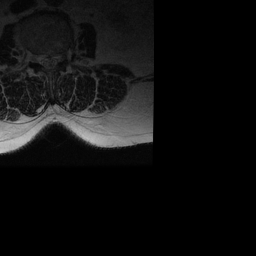CCS_normal: (45, 46, 51, 76)
LFS_normal: (58, 45, 65, 68)
LLS_normal: (51, 45, 58, 73)
RFS_normal: (33, 45, 40, 69)
RLS_normal: (40, 46, 45, 71)
